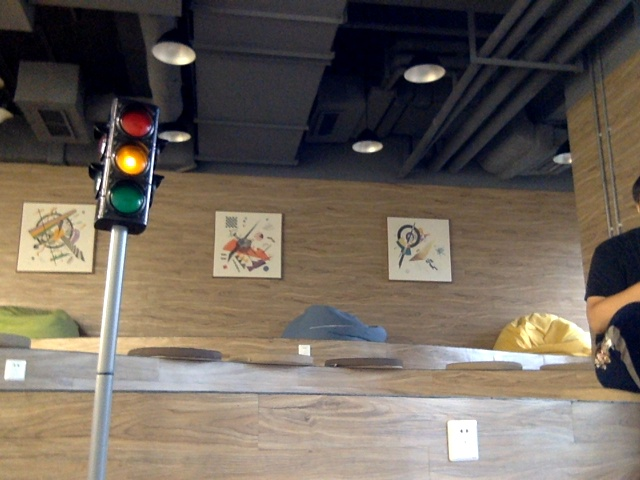yellow: (109, 103, 152, 219)
